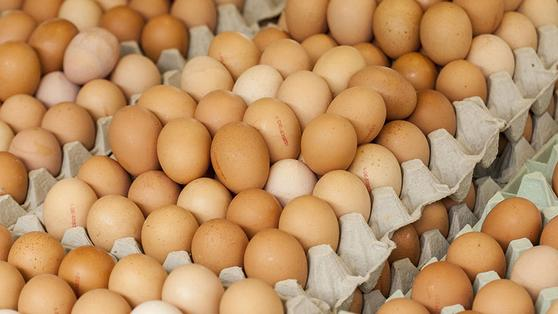egg: (213, 122, 272, 190), (110, 104, 162, 174), (294, 113, 355, 169), (190, 218, 246, 270), (139, 206, 196, 256)
